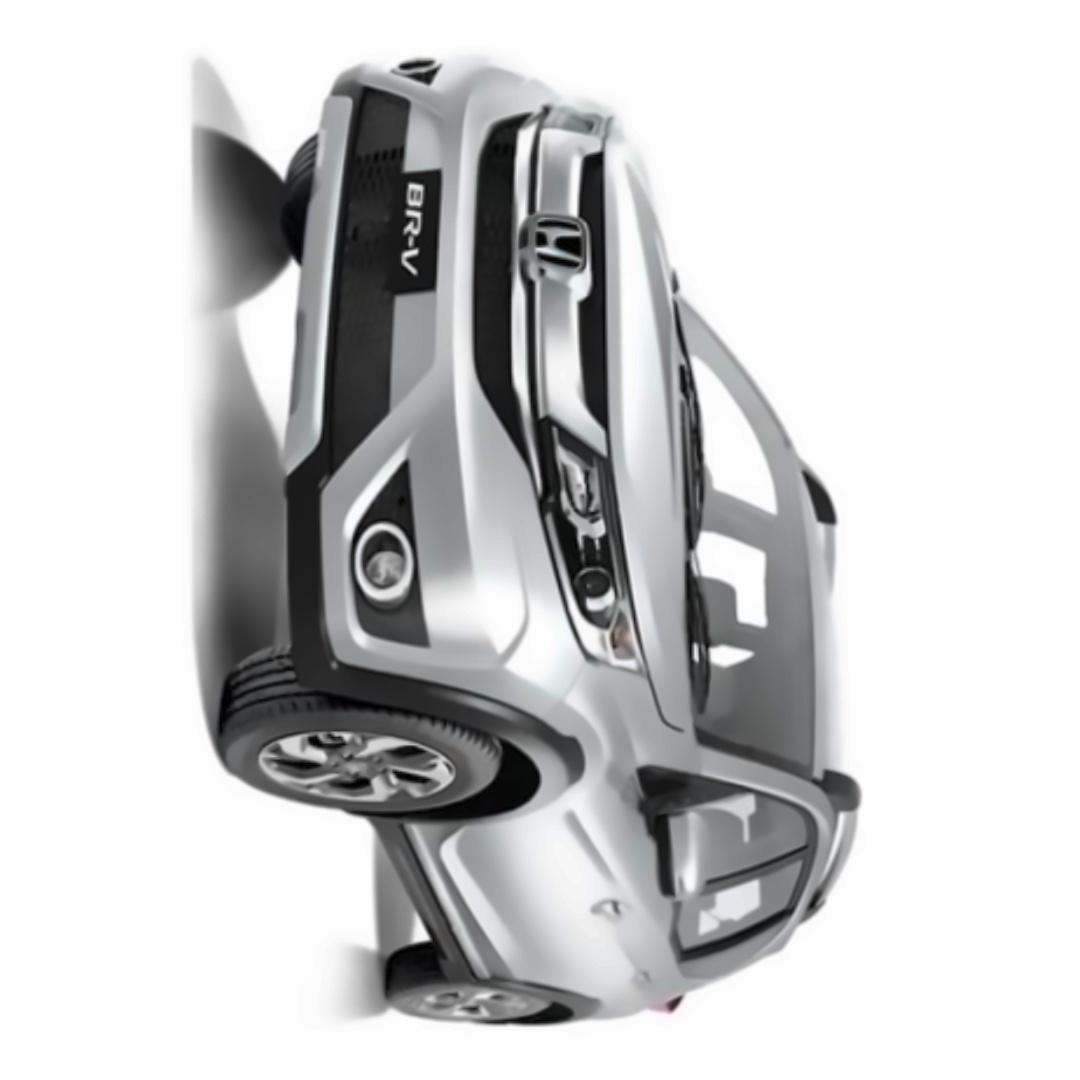Car hood: (595, 99, 713, 729)
Fender - -F-L-: (375, 642, 716, 846)
Front bumper: (272, 39, 574, 714)
Headlight - -L-: (535, 409, 651, 683)
Passenger-s door - -F-L-: (367, 722, 890, 920)
Passenger-s door - -R-L-: (330, 825, 890, 987)
Side bumper - -L-: (367, 779, 513, 988)
Side mirror - -L-: (629, 755, 698, 842)
